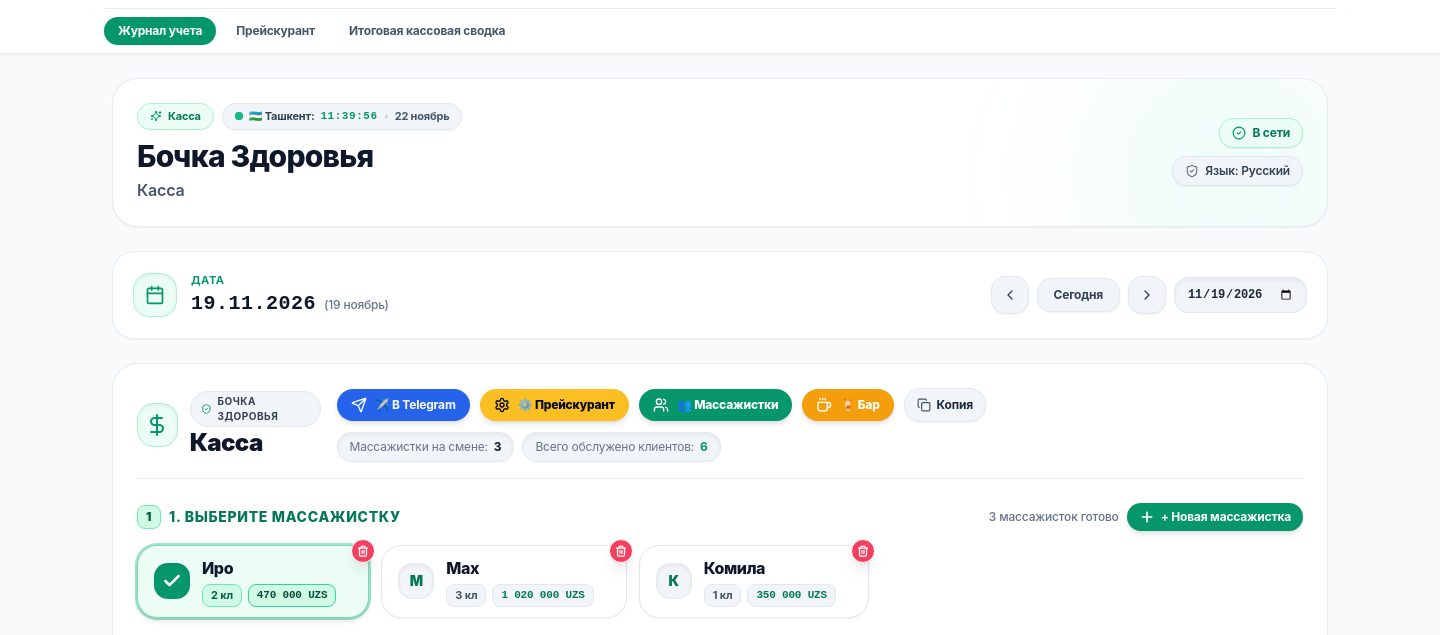
Test: Feature F18: Client Bar Items & Total Bill Calculation › 2. Attaching Bar Items to New Orders in POS › attaches bar items in Step 2/3 and calculates total client bill: Massage + Bar = Total
Note: Select Masseur Iro
Click the radio button with test id "pos-masseur-chip-m-iro-19" at (253, 581), box top-left (137, 545), bottom-right (369, 618)
(page scrolled)
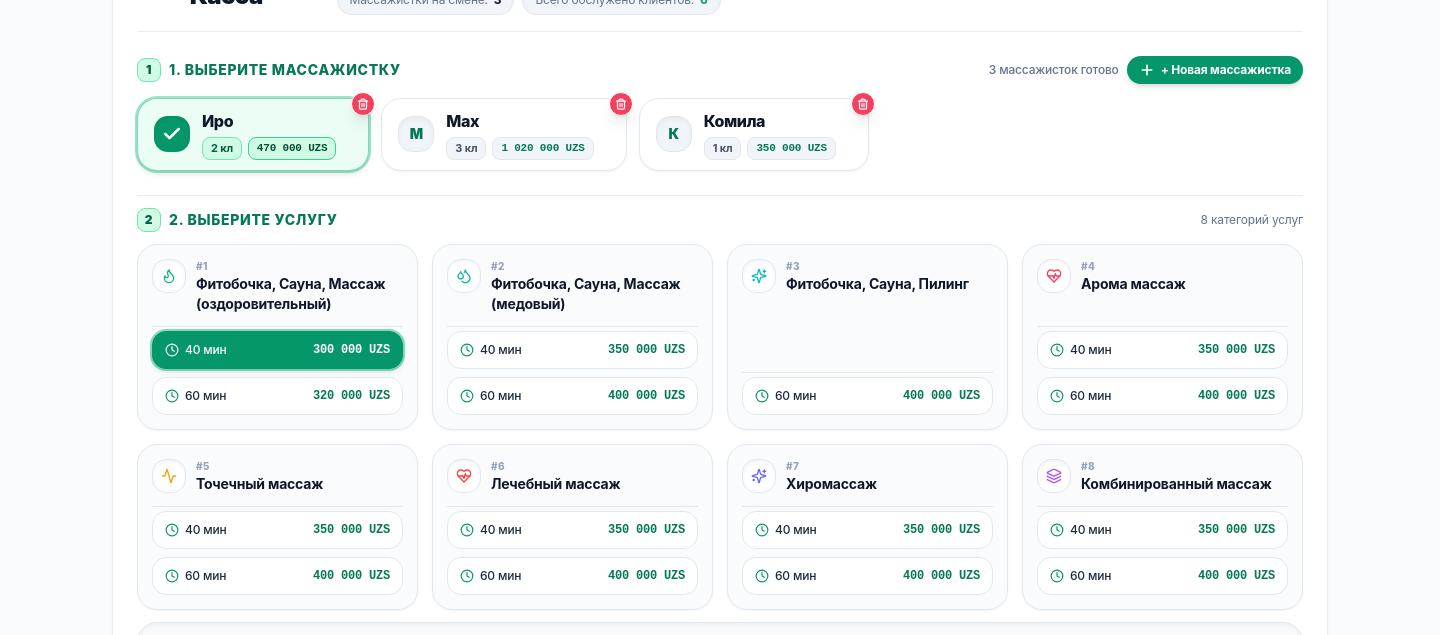
Note: Select Category 1 - 40 min (300 000 UZS)
Click the button with test id "pos-service-btn-1-40" at (278, 350), box top-left (152, 330), bottom-right (403, 368)
(page scrolled)
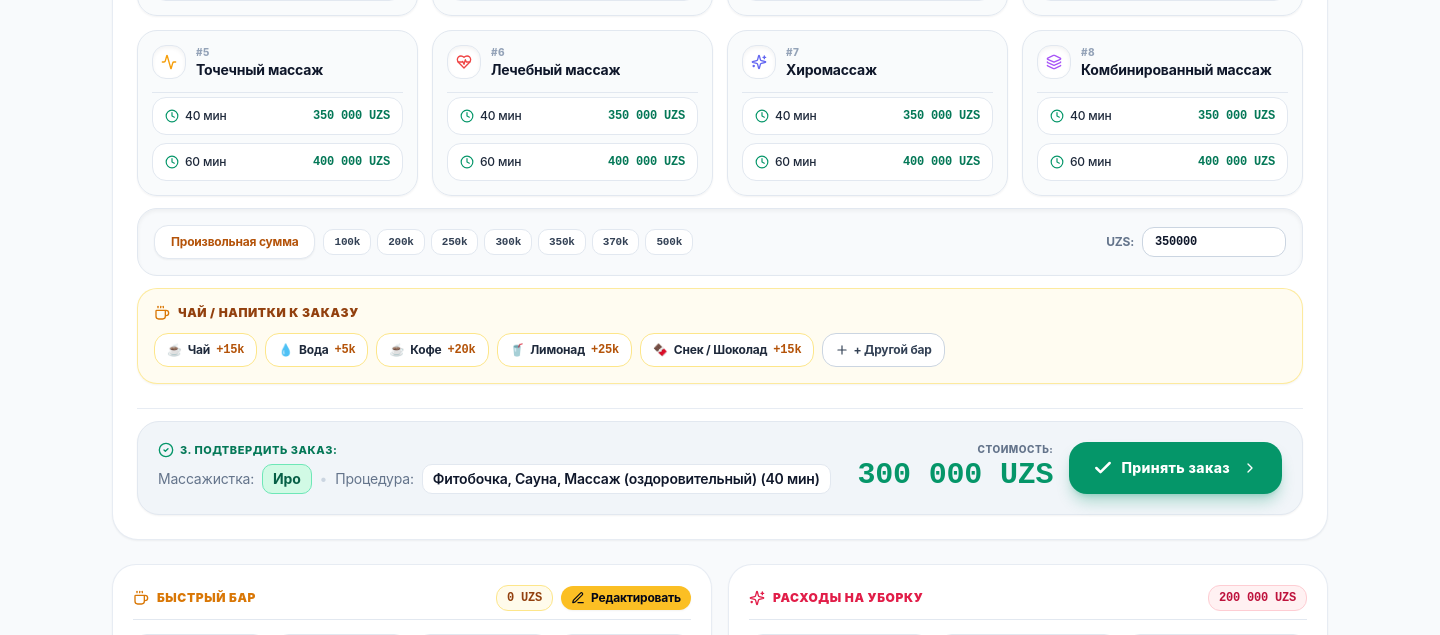
expect the text with test id "pos-draft-price" shows "300 000": met, box top-left (858, 458), bottom-right (1053, 492)
Note: Add Bar item: Tea (15 000 UZS)
Click the button with test id "pos-draft-bar-btn-tea" at (206, 350), box top-left (154, 332), bottom-right (257, 366)
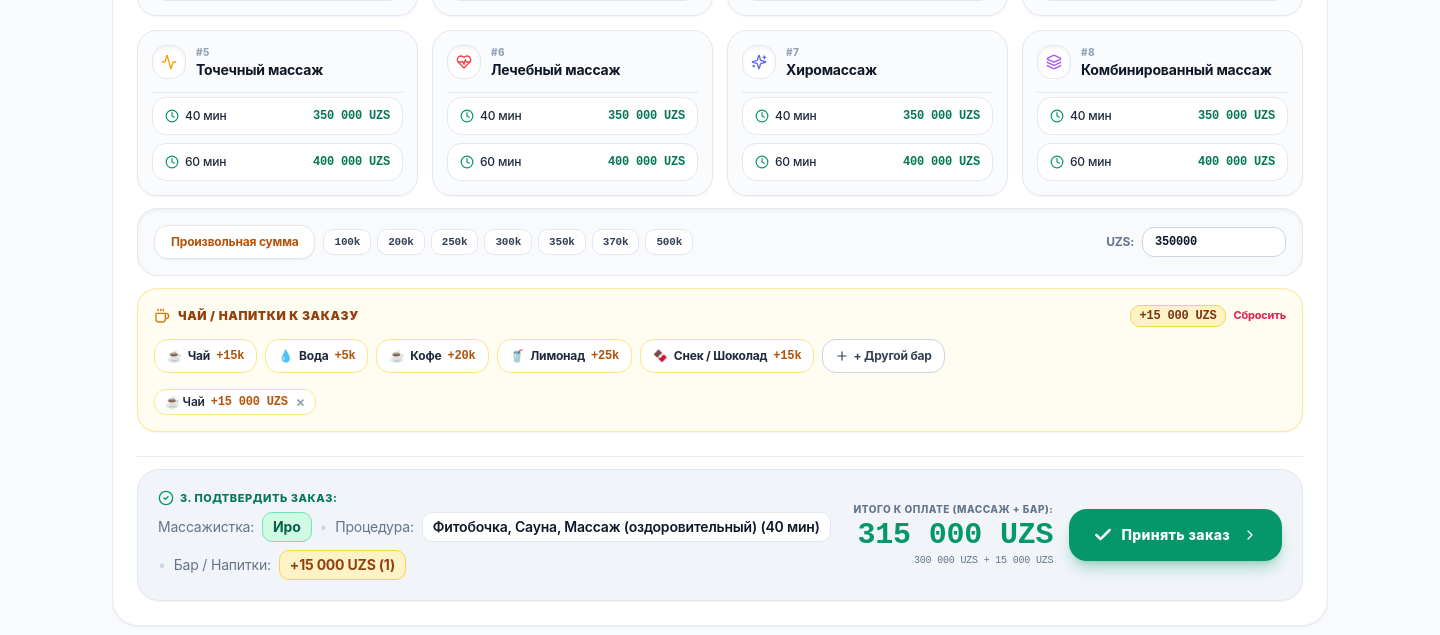
expect the text with test id "pos-draft-price" shows "315 000": met, box top-left (858, 518), bottom-right (1053, 552)
expect the text with test id "pos-draft-bar-subtotal" shows "15 000": met, box top-left (1146, 308), bottom-right (1216, 322)
Note: Add Bar item: Water (5 000 UZS)
Click the button with test id "pos-draft-bar-btn-water" at (317, 356), box top-left (265, 338), bottom-right (368, 372)
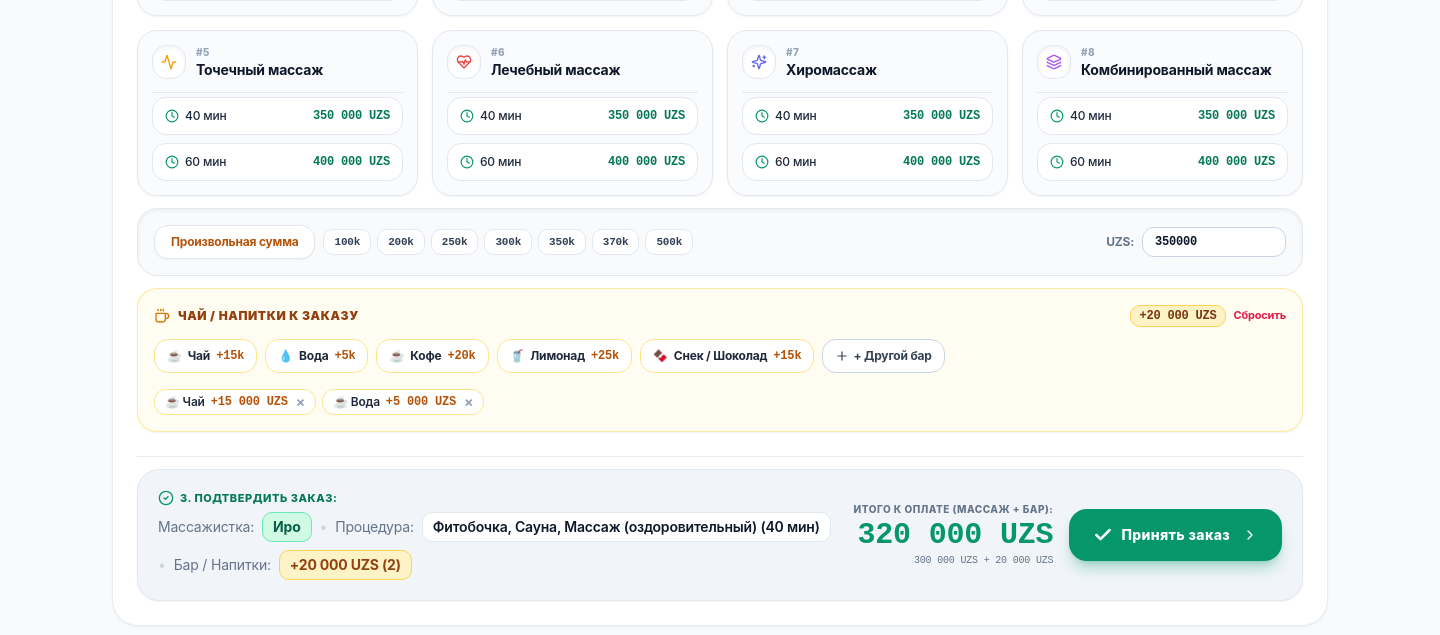
expect the text with test id "pos-draft-price" shows "320 000": met, box top-left (858, 518), bottom-right (1053, 552)
expect the text with test id "pos-draft-bar-subtotal" shows "20 000": met, box top-left (1146, 308), bottom-right (1216, 322)
Note: Submit order
Click the button with test id "pos-submit-order" at (1176, 535), box top-left (1069, 509), bottom-right (1282, 561)
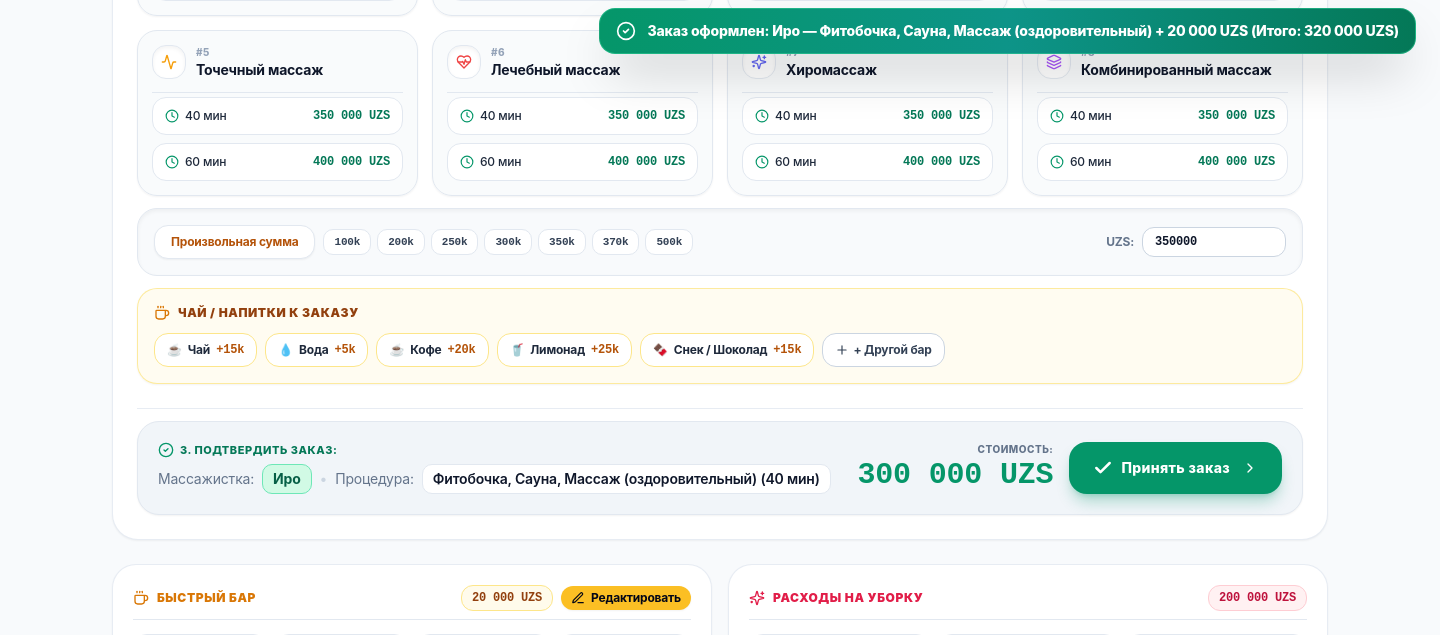
expect the element with test id "pos-order-success-banner" is shown: met, box top-left (598, 8), bottom-right (1416, 54)
expect the text with test id "pos-bar-current-total" shows "20 000": met, box top-left (472, 591), bottom-right (542, 605)
